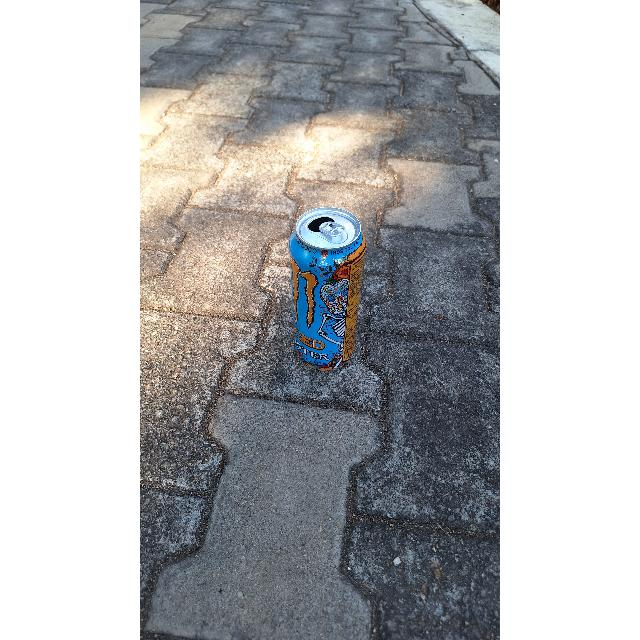Monster Mango Loco: (292, 215, 363, 368)
